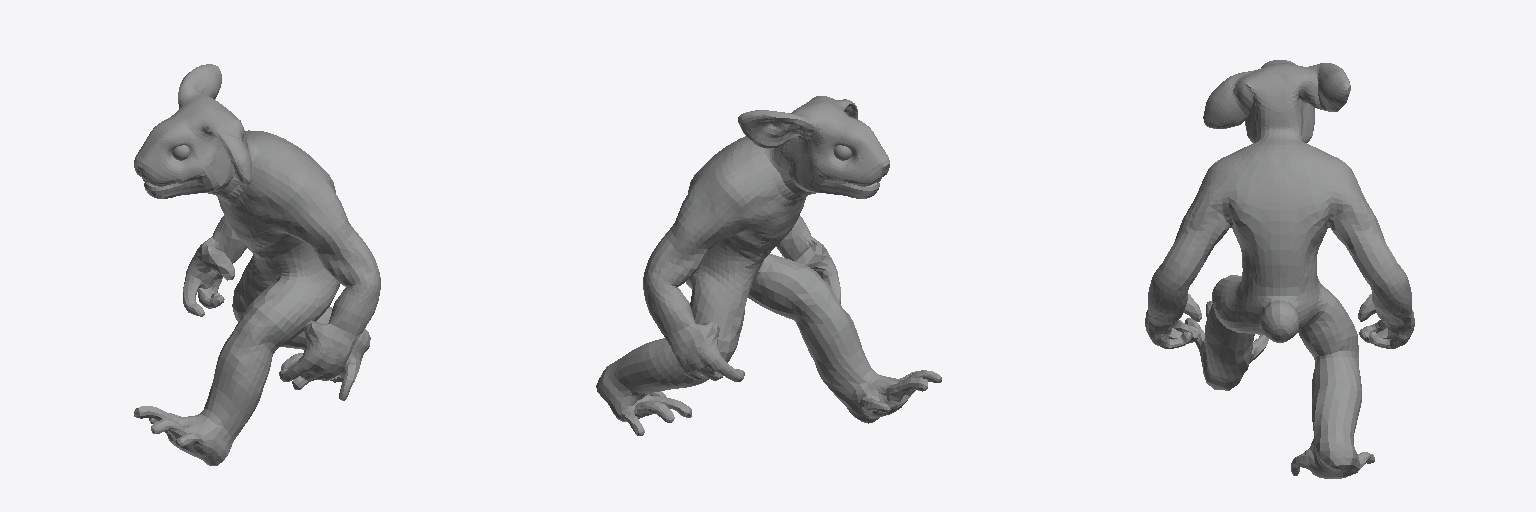
Rendered from bunny.obj.
3 views of the same model, side by side, from view 1: azimuth 30°, elevation 25°; view 2: azimuth 150°, elevation 25°; view 3: azimuth 270°, elevation 25° (orthographic).
Parts seen in each view (by area): view 1: Mesh; view 2: Mesh; view 3: Mesh.
Part boxes in pixels (x1,y1,x2,y2): Mesh: (134,64,380,465); Mesh: (596,96,941,435); Mesh: (1145,60,1414,478).
Bounding box in the file's own units: 5.02 × 5.89 × 4.16.